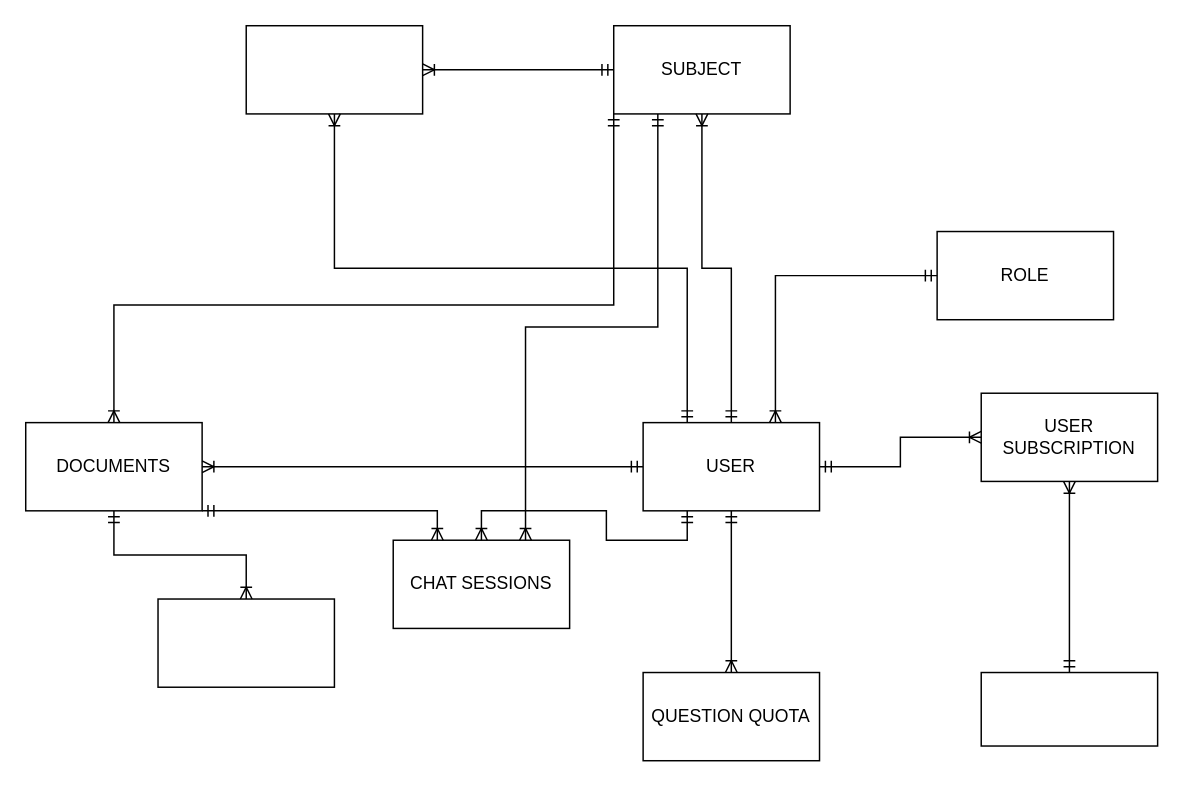
Image size: 1183x786. Some labels were removed from this diagram. The shapes that lost their labels are listed below. From the top down, each one's box as (x1, y1, x2, y2) in pixels, then its label:
(245, 24, 423, 114): SUBJECT ASSIGNMENT
(157, 598, 334, 687): CHUNKS
(980, 671, 1158, 746): SUBSCRIPTION PLAN
